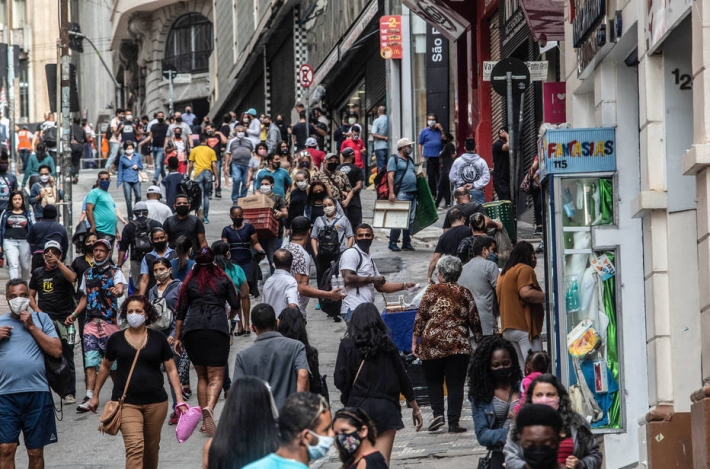mask_weared_incorrect: (90, 243, 112, 267)
with_mask: (518, 424, 561, 466), (484, 346, 516, 388), (526, 383, 564, 412), (6, 285, 31, 315), (123, 302, 149, 328), (151, 262, 172, 283), (357, 228, 374, 246), (229, 208, 245, 227), (323, 200, 338, 216)
without_mask: (12, 194, 23, 208)
